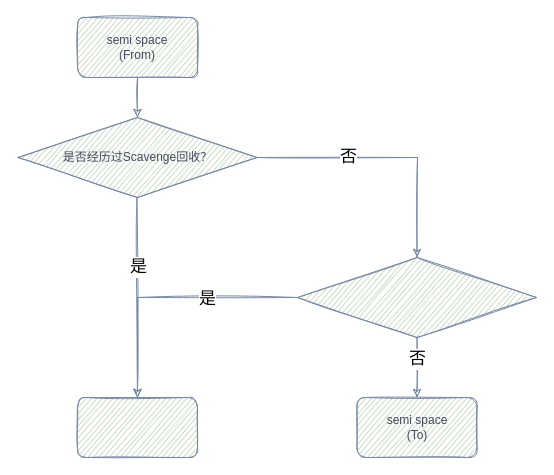
Some shapes in this 554 by 475 pixel diagram are drawn without their labels. The shapes that lost their labels are listed below. From the top down, each one's box as (x1, y1, x2, y2) in pixels, then its label:
(296, 256, 536, 338): To空间内存已经使用了25%？
(76, 396, 198, 458): 老生代空间
